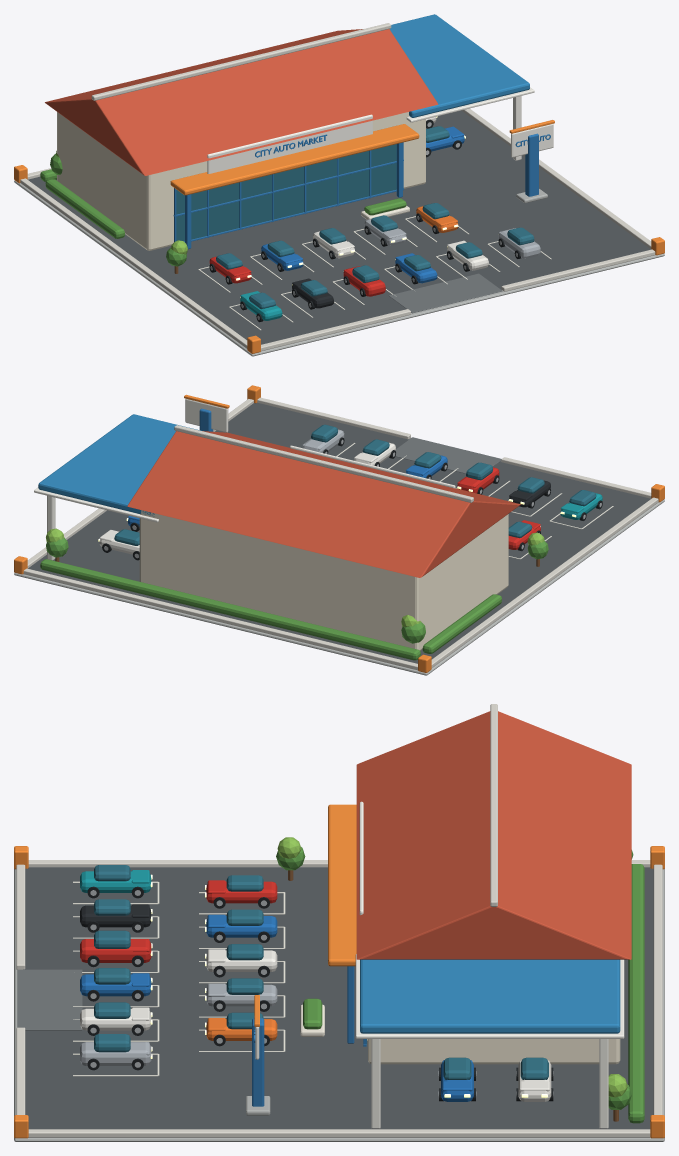
The model's file is dealer_b_suburban_market_4x4.glb.
3 renders of one model, top to bottom at view 1: azimuth 30°, elevation 25°; view 2: azimuth 150°, elevation 25°; view 3: azimuth 270°, elevation 25°, orthographic. The views are drawn at different scales.
Parts seen in each view (by area): view 1: Lot_Asphalt.001, B_Gable_Roof, B_Showroom_Mass, B_Storefront_Glass, B_Display_Canopy, B_Awning, B_Main_Sign_Board, Footprint_80x80.001, Entry_Apron.001, Curb_West.001, B_Roof_Ridge, Curb_East.001 (+10 smaller); view 2: B_Gable_Roof, B_Showroom_Mass, Lot_Asphalt.001, B_Display_Canopy, B_Hedge_Back, Curb_Back.001, Footprint_80x80.001, Curb_West.001, B_Roof_Ridge, Entry_Apron.001, B_Hedge_West, Curb_Front_Right.001 (+6 smaller); view 3: Lot_Asphalt.001, B_Gable_Roof, B_Display_Canopy, B_Showroom_Mass, Curb_East.001, Footprint_80x80.001, B_Awning, B_Hedge_Back, Entry_Apron.001, Curb_Back.001, B_Canopy_White_Trim, Curb_West.001 (+23 smaller).
Part boxes in pixels (x1,y1,x2,y2): Lot_Asphalt.001: (28, 110, 650, 344); B_Gable_Roof: (45, 29, 438, 175); B_Showroom_Mass: (57, 112, 425, 250); B_Storefront_Glass: (176, 144, 396, 241); B_Display_Canopy: (389, 14, 529, 117); B_Awning: (170, 124, 419, 195); B_Main_Sign_Board: (207, 114, 372, 173); Footprint_80x80.001: (14, 180, 664, 356); Entry_Apron.001: (389, 273, 502, 313); Curb_West.001: (20, 178, 247, 348); B_Roof_Ridge: (91, 23, 391, 100); Curb_East.001: (461, 108, 651, 248); B_Gable_Roof: (127, 431, 520, 577); B_Showroom_Mass: (139, 510, 508, 650); Lot_Asphalt.001: (28, 402, 650, 663); B_Display_Canopy: (38, 414, 201, 516); B_Hedge_Back: (40, 559, 420, 660); Curb_Back.001: (23, 568, 417, 670); Footprint_80x80.001: (14, 437, 664, 675); Curb_West.001: (431, 497, 658, 667); B_Roof_Ridge: (174, 425, 473, 502); Entry_Apron.001: (395, 437, 501, 473); B_Hedge_West: (422, 594, 501, 653); Curb_Front_Right.001: (257, 397, 410, 439); Lot_Asphalt.001: (23, 867, 653, 1129); B_Gable_Roof: (356, 711, 631, 959); B_Display_Canopy: (360, 959, 620, 1033); B_Showroom_Mass: (368, 1039, 620, 1064); Curb_East.001: (28, 1129, 650, 1137); Footprint_80x80.001: (14, 868, 664, 1141); B_Awning: (328, 804, 356, 966); B_Hedge_Back: (628, 864, 644, 1123); Entry_Apron.001: (17, 969, 82, 1030); Curb_Back.001: (653, 864, 662, 1114); B_Canopy_White_Trim: (355, 954, 624, 1038); Curb_West.001: (28, 860, 650, 867).
Size of the model in its own units: 80 by 23.75 by 80.
